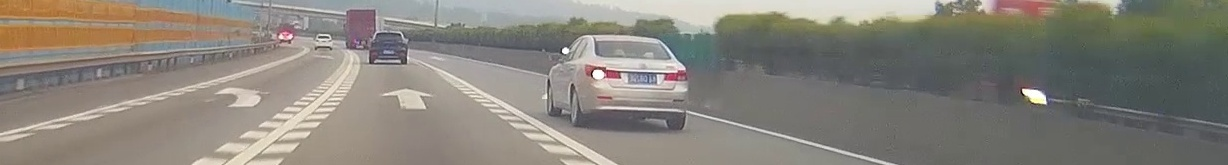L_light: (584, 64, 621, 79)
R_light: (664, 69, 687, 81)
T_light: (624, 42, 638, 44)
day-left: (582, 36, 688, 129)
